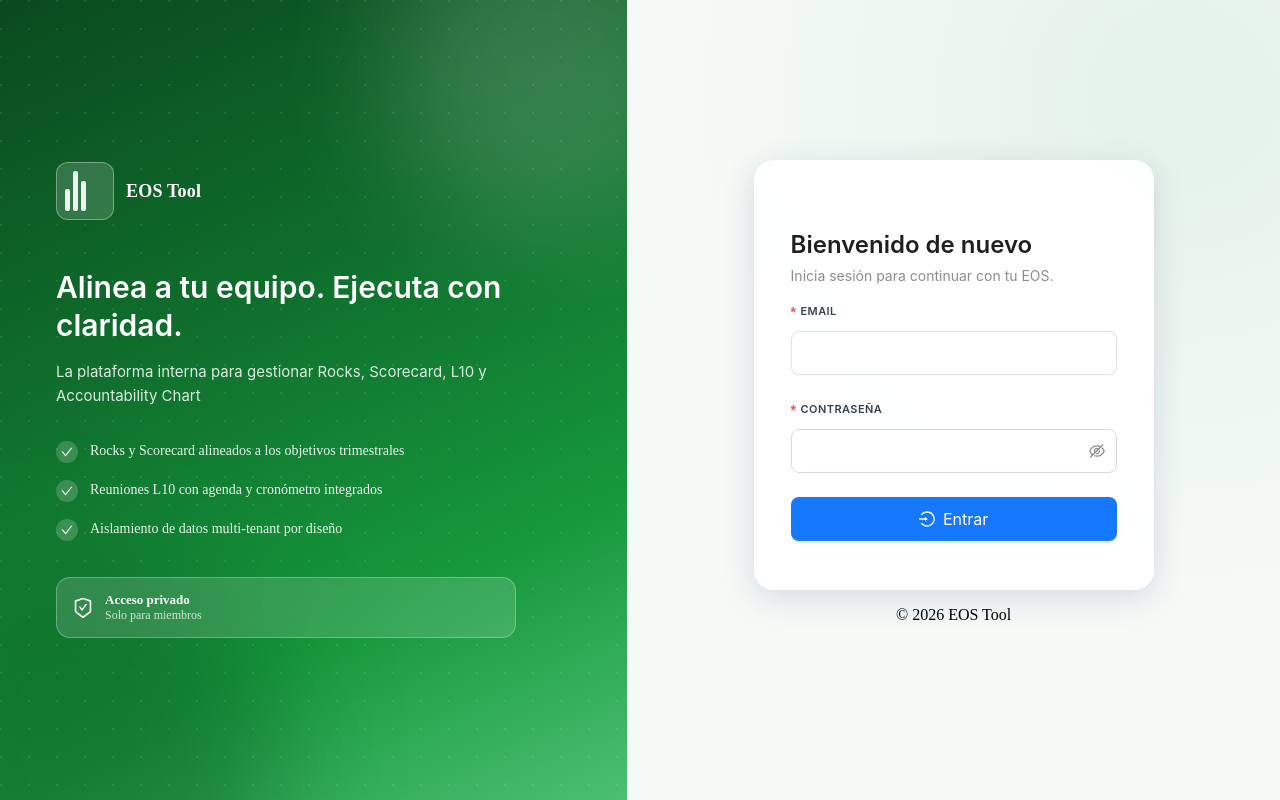
LoginPage › shows a validation error when submitting an empty form
The image size is (1280, 800).
Click the button "Entrar": (954, 519) [791,497,1117,541]
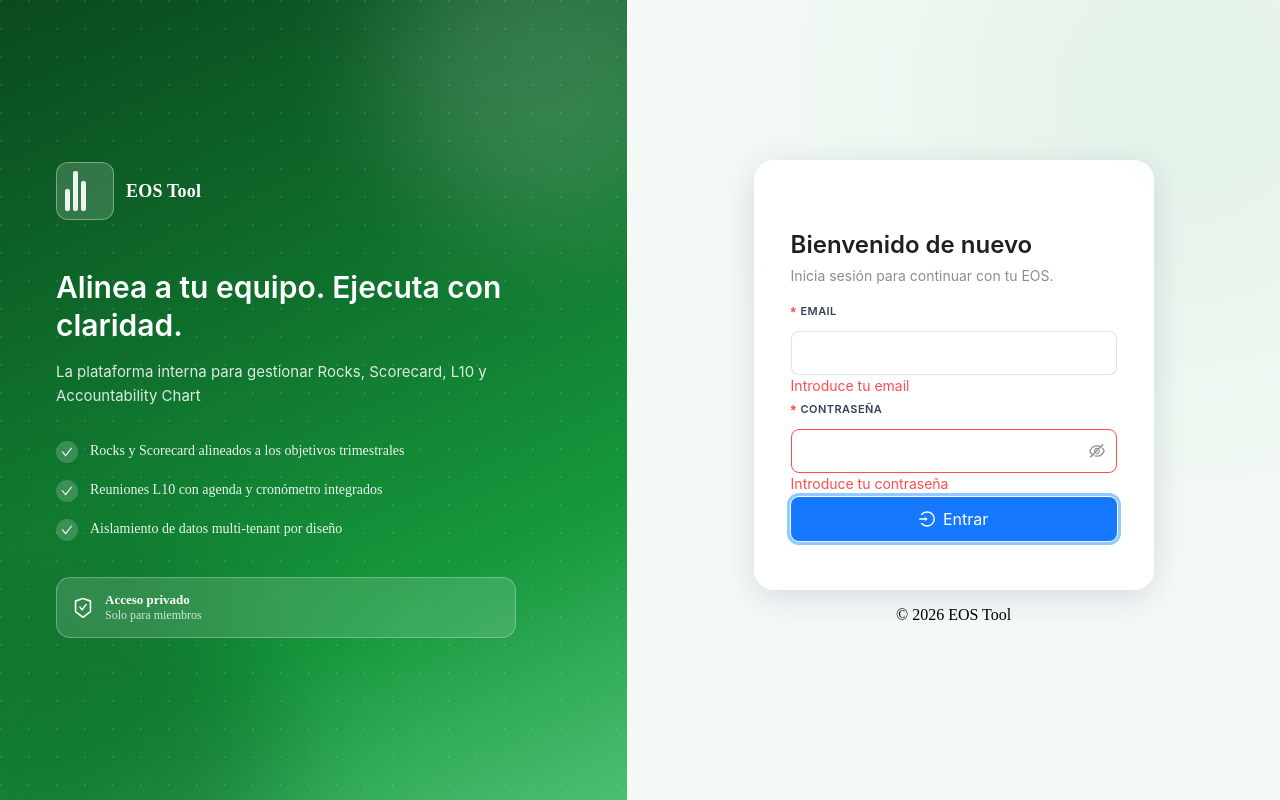
Expected: the text "Introduce tu email" is shown, [791,377,910,394]
